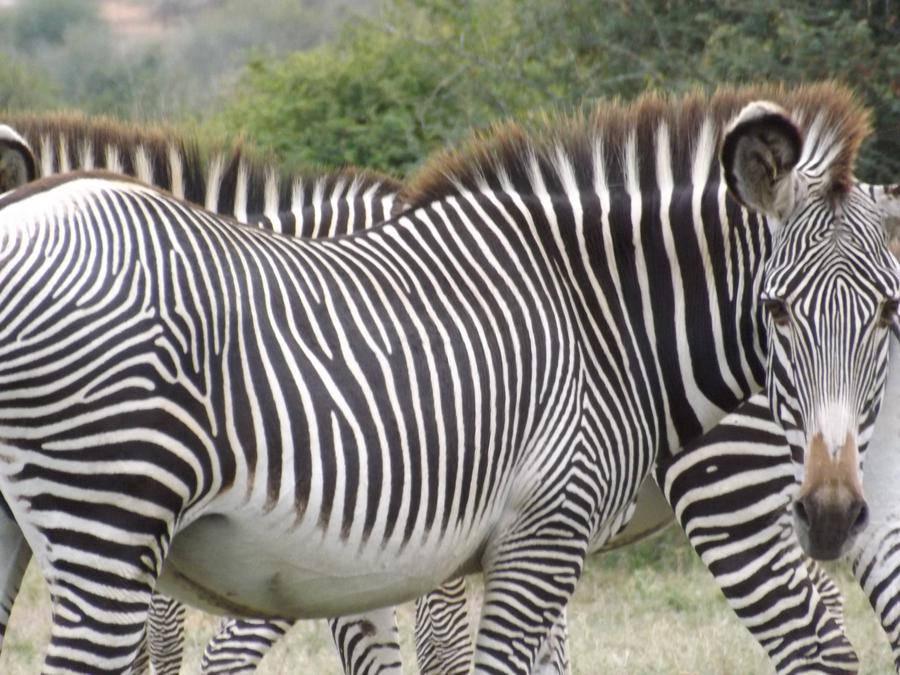zebra_grevys: (2, 164, 594, 564)
